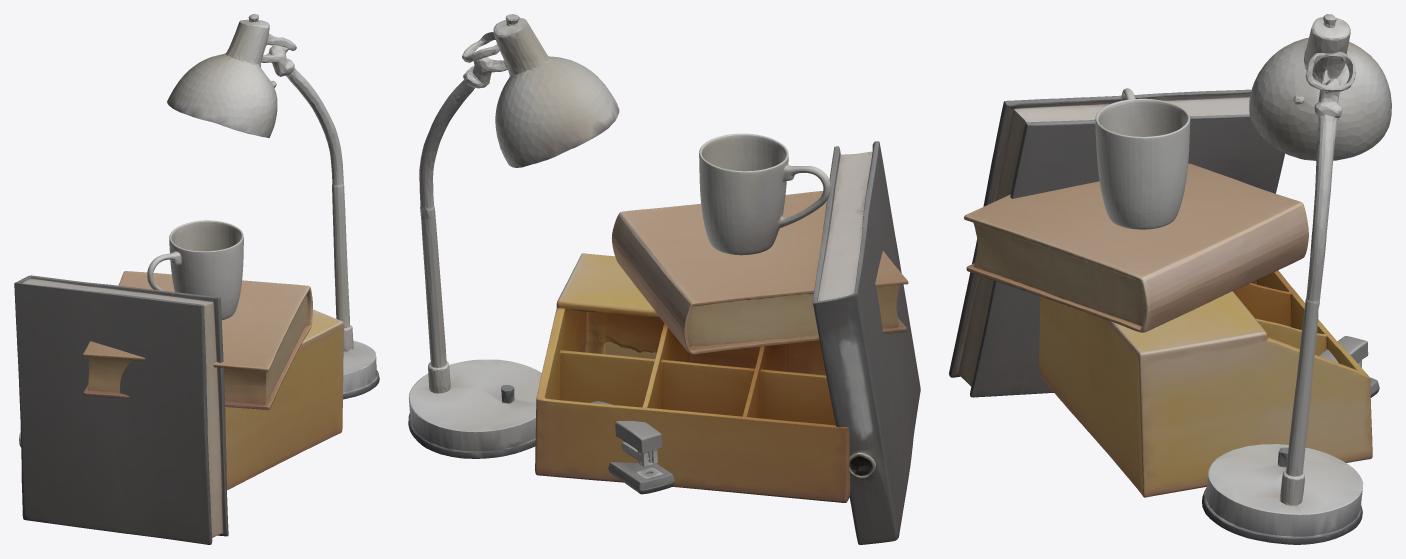
The model's file is sam3d.glb.
The picture shows the model from 3 angles, left to right: view 1: azimuth 30°, elevation 25°; view 2: azimuth 150°, elevation 25°; view 3: azimuth 270°, elevation 25°; orthographic projection. The views are drawn at different scales.
Visible parts, largest first — view 1: object_02, object_04, object_03, object_05, object_00; view 2: object_05, object_04, object_02, object_03, object_00, object_01; view 3: object_05, object_03, object_04, object_02, object_00, object_01.
Boxes of the visible parts, box(x1,y1,x2,y2) form: object_02: box(14, 275, 228, 544); object_04: box(167, 14, 379, 399); object_03: box(83, 271, 312, 409); object_05: box(225, 309, 343, 490); object_00: box(147, 220, 243, 320); object_05: box(535, 253, 850, 502); object_04: box(408, 14, 619, 458); object_02: box(812, 141, 920, 544); object_03: box(611, 191, 908, 354); object_00: box(699, 133, 830, 255); object_01: box(590, 401, 674, 494); object_05: box(1038, 270, 1372, 497); object_03: box(964, 163, 1308, 332); object_04: box(1202, 14, 1391, 544); object_02: box(949, 89, 1284, 397); object_00: box(1095, 88, 1190, 229); object_01: box(1319, 336, 1379, 397).
Size of the model in its own units: 0.8976 by 0.9353 by 0.718.
